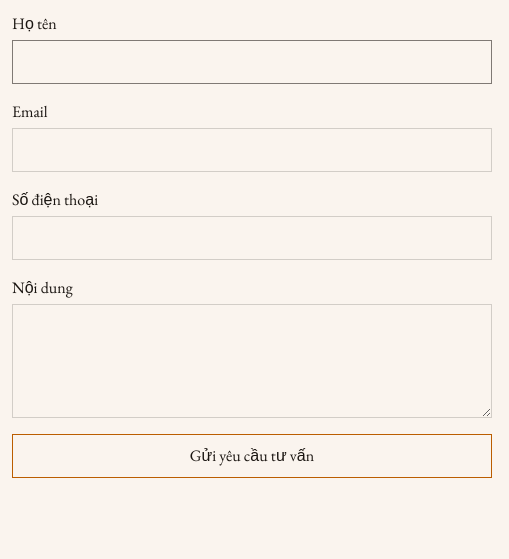
Test: ContactForm › re-enables submit button with default text and shows an alert when fetch rejects
This screenshot has width=509, height=559.
In the field labelled "Họ tên": (252, 62) top-left (12, 40), bottom-right (492, 84), type "An"
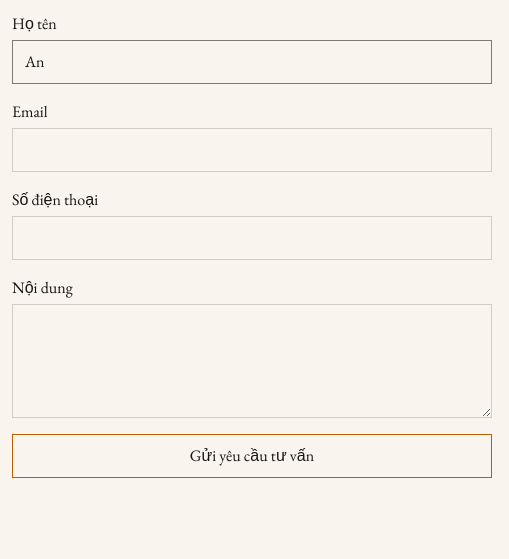
In the field labelled "Email": (252, 150) top-left (12, 128), bottom-right (492, 172), type "an@example.com"
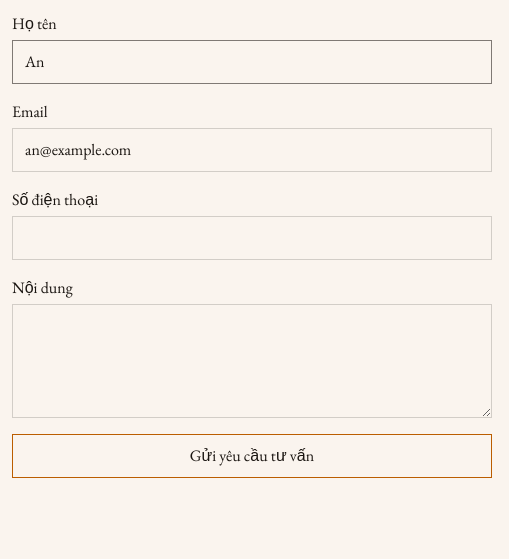
In the text box labelled "Nội dung": (252, 361) top-left (12, 304), bottom-right (492, 418), type "Xin chào"
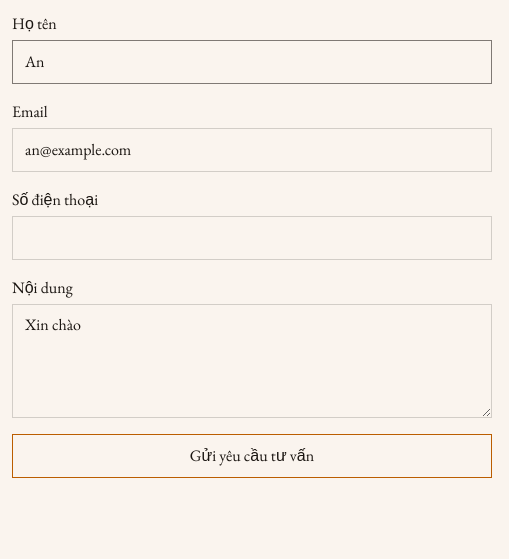
Click the button "Gửi yêu cầu tư vấn": click(252, 456) top-left (12, 434), bottom-right (492, 478)
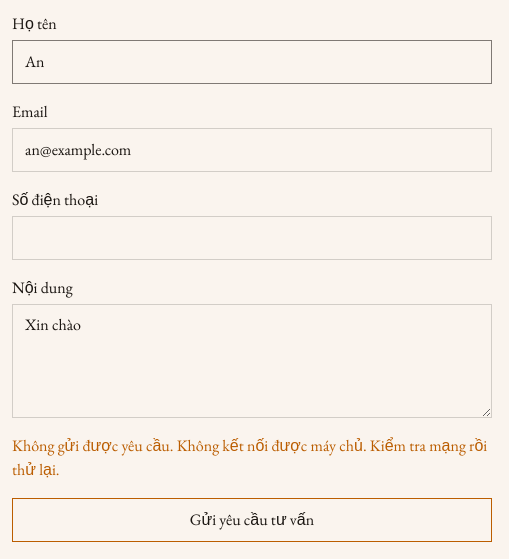
Expected: the button "Gửi yêu cầu tư vấn" is enabled, top-left (12, 498), bottom-right (492, 542)
Expected: the message "Không gửi được yêu cầu. Không kết nối được máy chủ. Kiểm tra mạng rồi thử lại." is shown, top-left (12, 434), bottom-right (492, 482)
